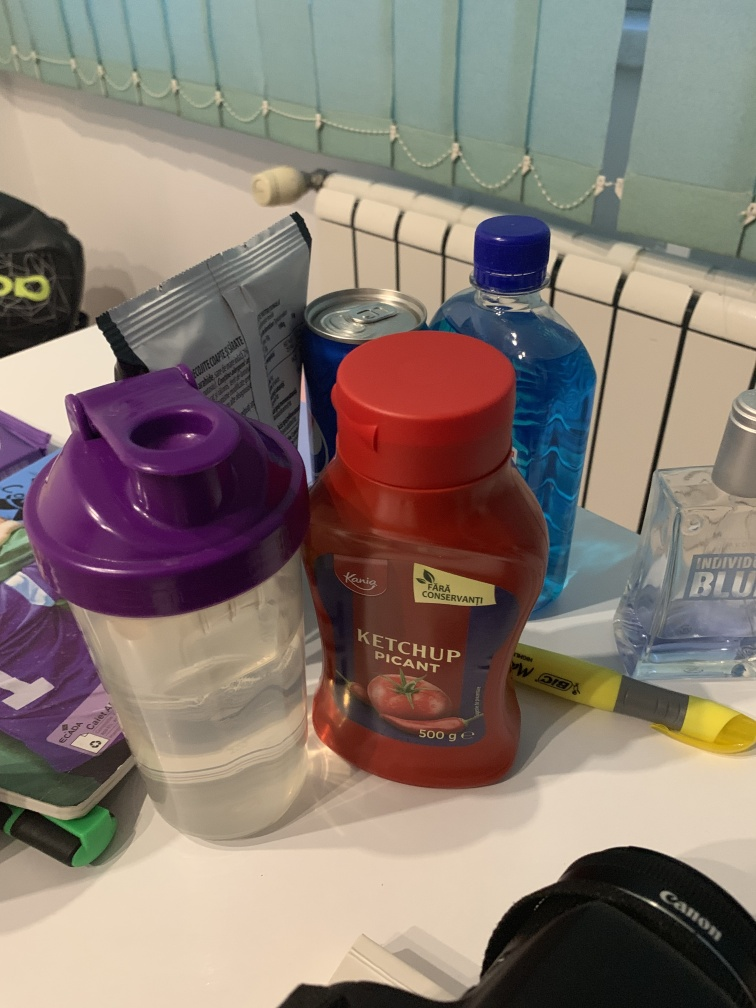ketchup: (308, 325, 556, 804)
